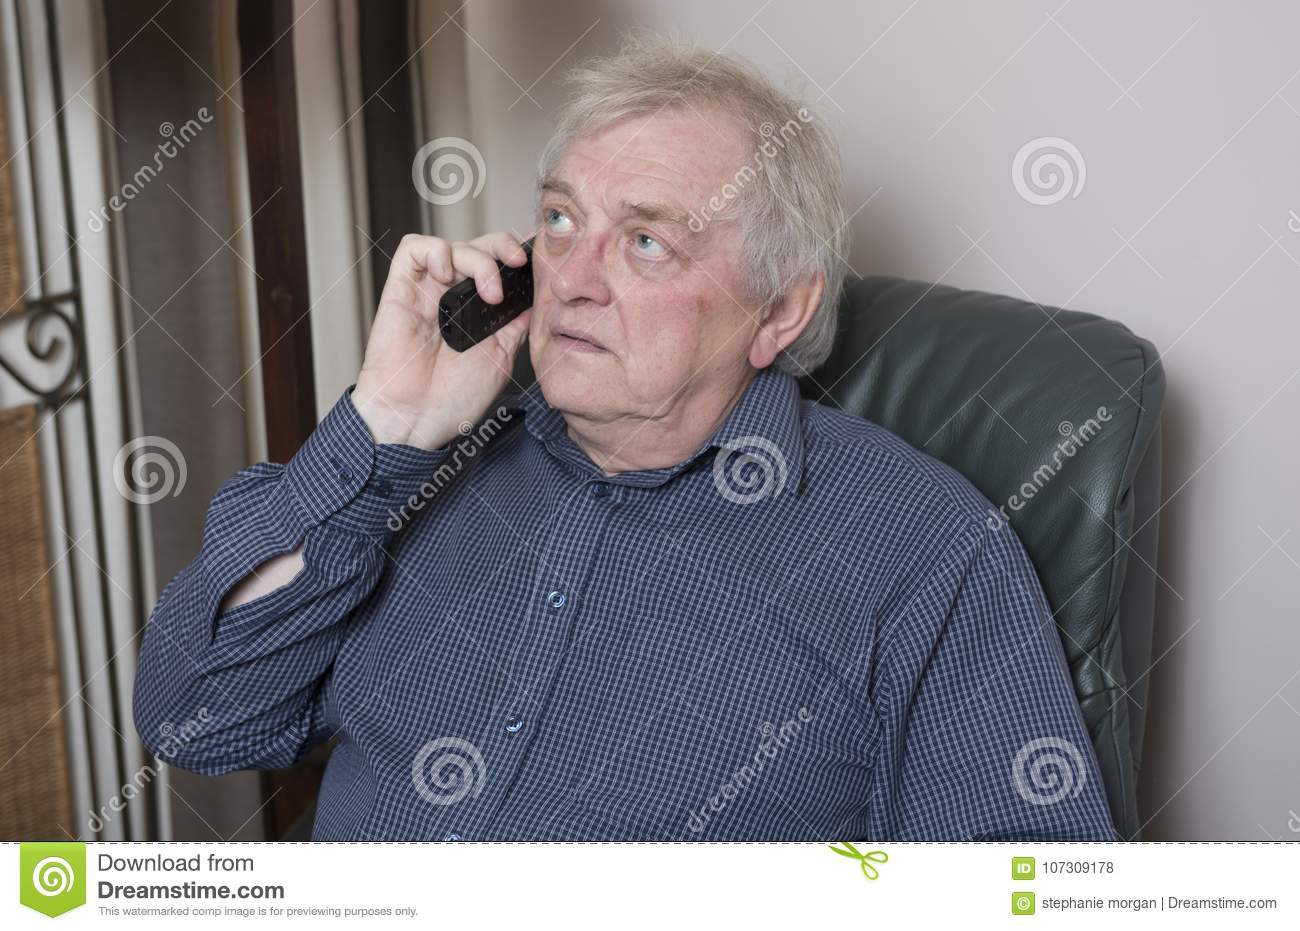phone: (436, 219, 540, 356)
talk: (359, 162, 706, 439)
